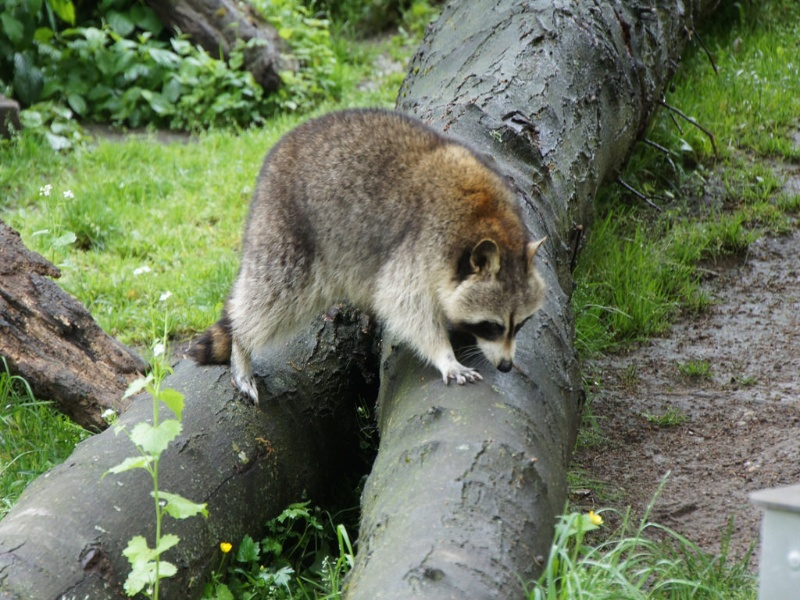raccoon: (189, 105, 549, 408)
